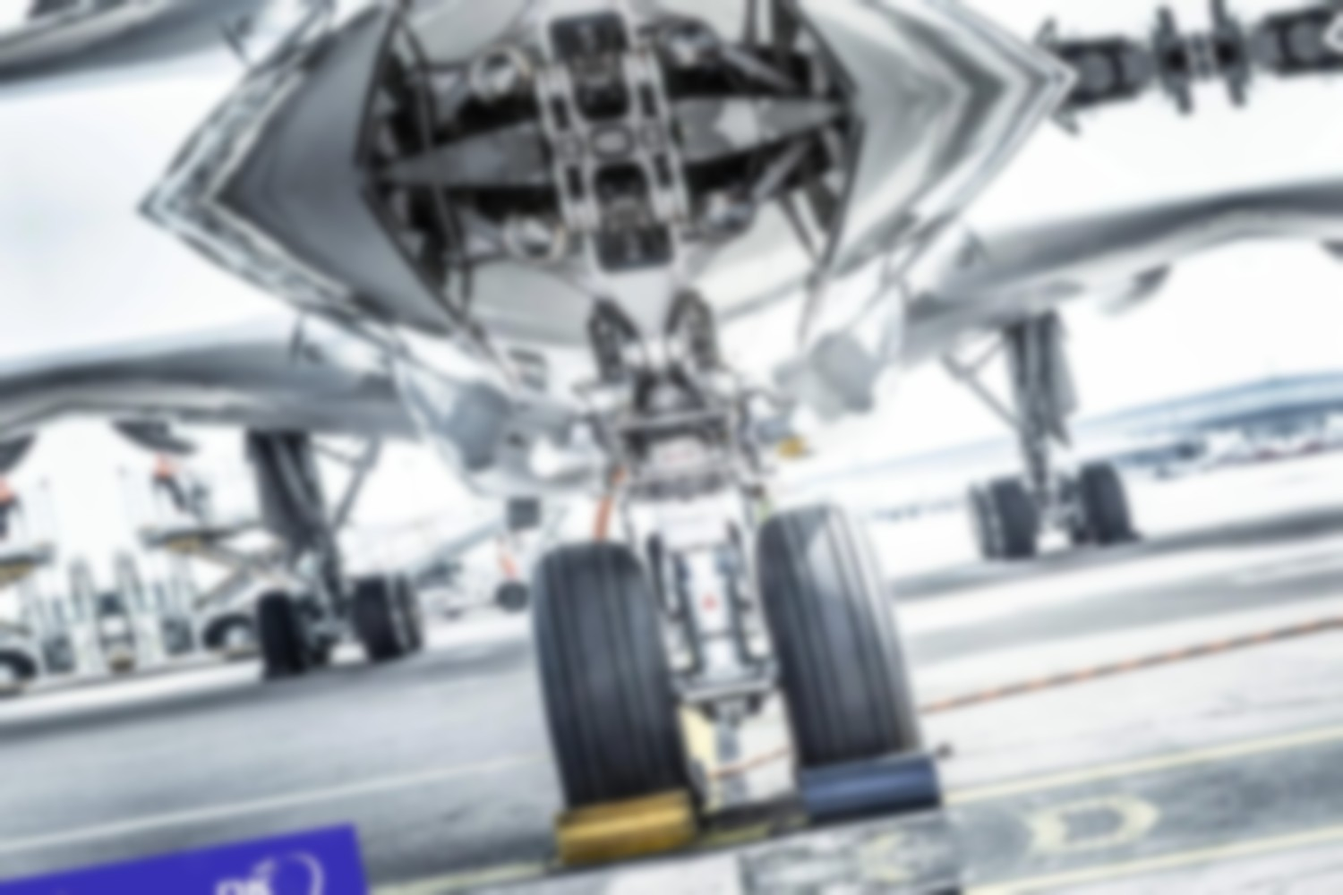chock: (794, 741, 953, 835), (548, 783, 707, 876)
wheel: (507, 531, 707, 840), (735, 494, 927, 795), (639, 514, 756, 626), (343, 564, 428, 664), (1060, 455, 1137, 550), (244, 584, 315, 680), (981, 471, 1043, 563), (284, 585, 339, 669), (960, 478, 1006, 561), (640, 528, 681, 621), (386, 569, 430, 653), (1048, 472, 1096, 548), (723, 517, 756, 603), (202, 610, 261, 654), (0, 646, 34, 691), (494, 578, 533, 615), (443, 608, 463, 619)
